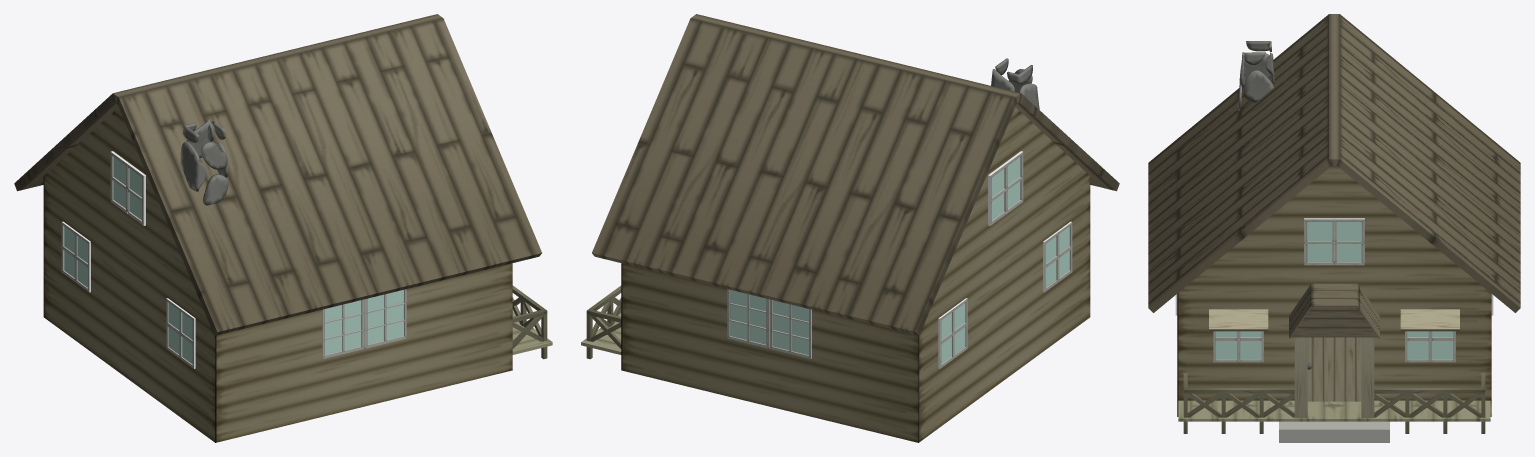
File: Wood House.fbx
3 views of the same model, side by side, from view 1: azimuth 30°, elevation 25°; view 2: azimuth 150°, elevation 25°; view 3: azimuth 270°, elevation 25° (orthographic). The views are drawn at different scales.
Visible parts, largest first — view 1: Roof.001, Wall, Windows, Chimney 02, Floor; view 2: Roof.001, Wall, Windows, Chimney 02, Floor; view 3: Roof.001, Wall, Windows, Floor, Door.001, Window Canopy, Stair, Terrace Fence 02, Door Pole, Entrance Canopy 02, Entrance Canopy, Chimney 02 (+2 smaller).
Boxes of the visible parts, x1,y1,x2,y2 form: Roof.001: (14, 14, 541, 335); Wall: (43, 107, 512, 442); Windows: (61, 151, 406, 368); Chimney 02: (180, 119, 228, 205); Floor: (512, 313, 552, 354); Roof.001: (592, 14, 1119, 335); Wall: (621, 107, 1090, 442); Windows: (727, 151, 1072, 368); Chimney 02: (991, 58, 1039, 109); Floor: (581, 313, 621, 354); Roof.001: (1148, 14, 1520, 312); Wall: (1177, 166, 1491, 416); Windows: (1175, 218, 1493, 362); Floor: (1178, 331, 1490, 421); Door.001: (1307, 337, 1361, 401); Window Canopy: (1209, 309, 1459, 331); Stair: (1279, 421, 1389, 442); Terrace Fence 02: (1187, 393, 1481, 417); Door Pole: (1294, 337, 1374, 418); Entrance Canopy 02: (1289, 283, 1379, 338); Entrance Canopy: (1291, 307, 1377, 337); Chimney 02: (1238, 41, 1274, 110).
Size of the model in its own units: 1540 by 1150 by 1467.
3 materials, 1 textured.
